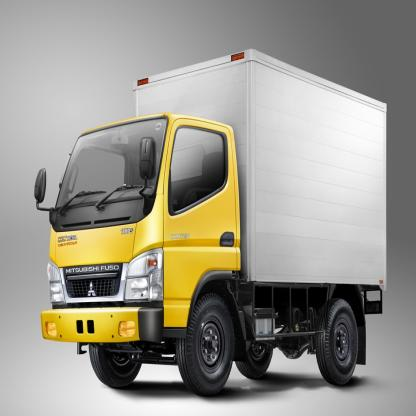truck: (34, 49, 387, 385)
